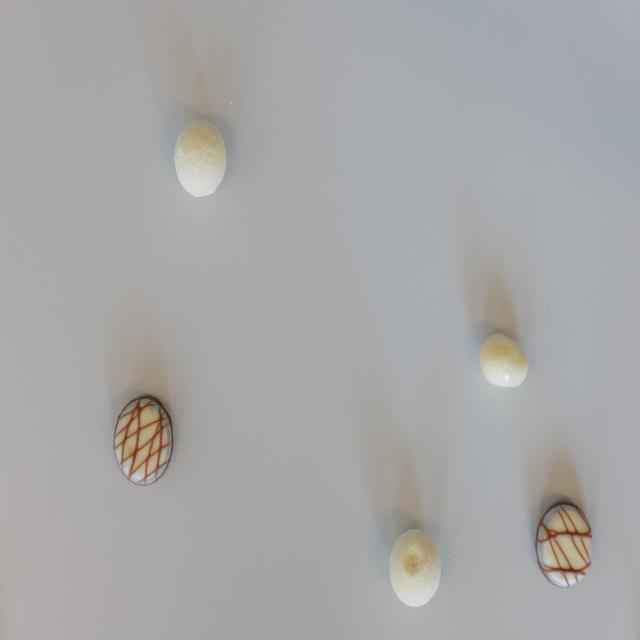Comtesse: (174, 117, 227, 197), (389, 530, 442, 608)
Creme_brulee: (112, 394, 174, 486), (535, 500, 592, 588)
Jelly_White: (478, 330, 530, 389)
